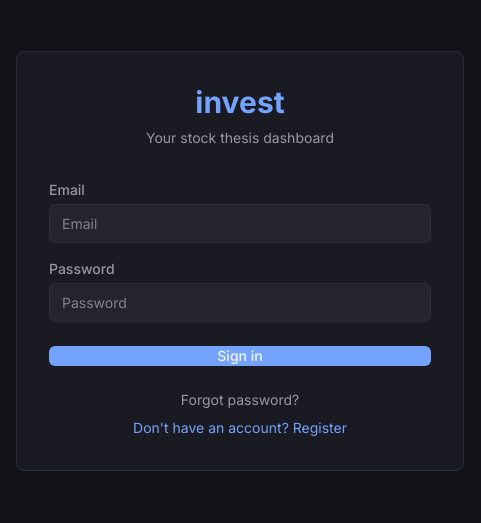
Test: Login › shows API error message on bad credentials
The width and height of the screenshot is (481, 523).
In the field with placeholder "Email": {"x": 240, "y": 224} [49, 204, 431, 243], type "d@example.com"
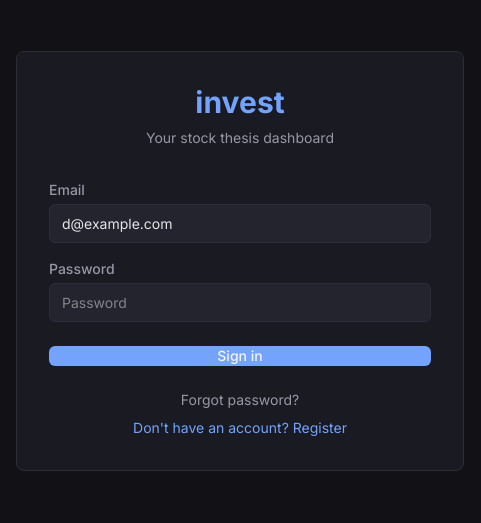
In the password field with placeholder "Password": {"x": 240, "y": 302} [49, 283, 431, 322], type "wrong"
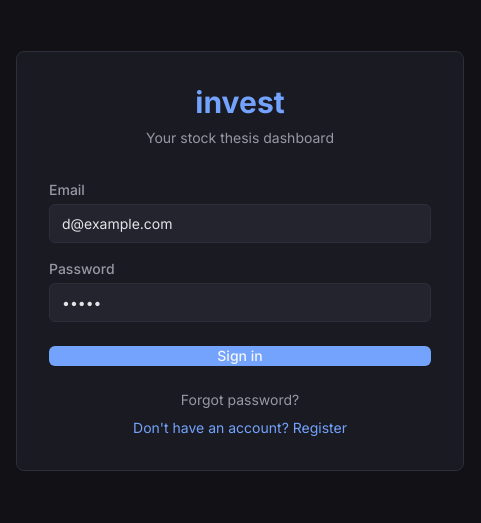
Click the button "Sign in": {"x": 240, "y": 356} [49, 346, 431, 366]
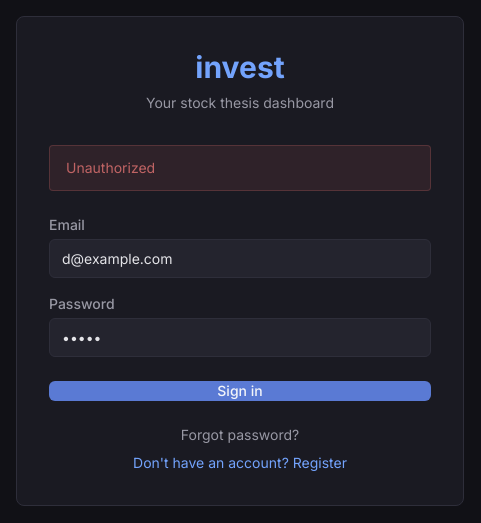
Check: the text "Unauthorized" is shown, box [49, 145, 431, 191]
